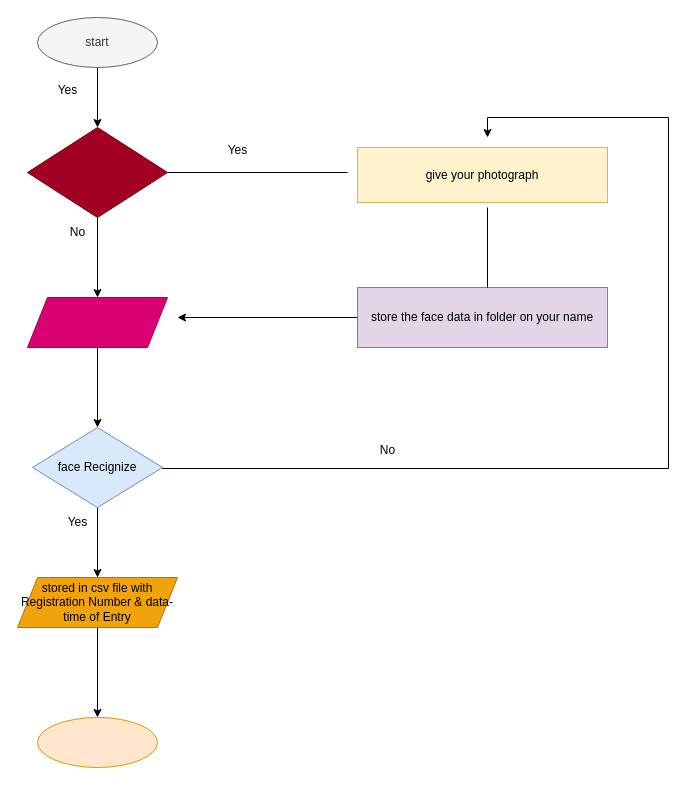
Image size: 694x785. Some labels were removed from this diagram. Each missing label, with the centre of its shape:
End: the point at 97,742
new user: the point at 97,172
recognize the face: the point at 97,322
